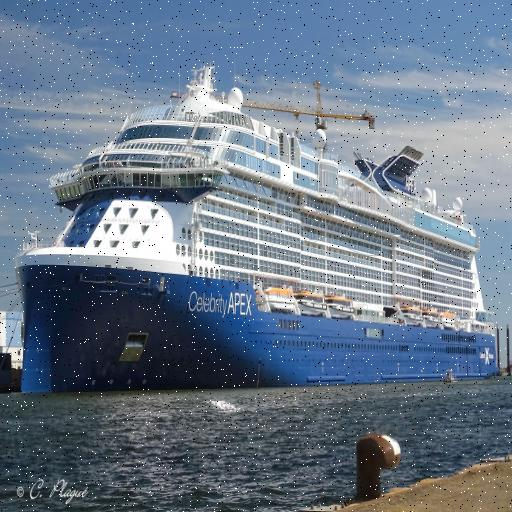cruises: (5, 66, 505, 385)
